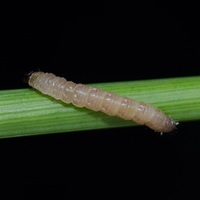insect: (28, 72, 178, 131)
